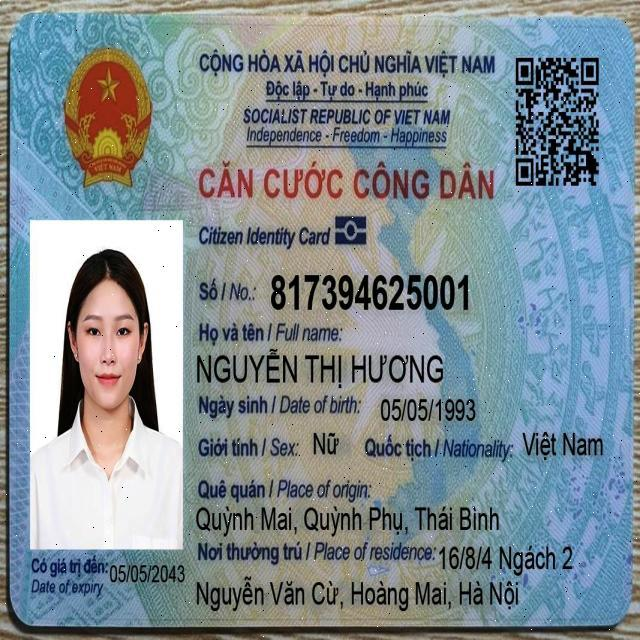current_place: (194, 572, 521, 618), (437, 539, 576, 580)
dob: (377, 393, 480, 427)
expire_date: (106, 558, 189, 589)
gender: (310, 427, 342, 461)
id: (267, 267, 473, 318)
name: (193, 344, 447, 391)
nationality: (518, 426, 608, 465)
origin_place: (192, 499, 504, 540)
qr: (512, 49, 604, 194)
